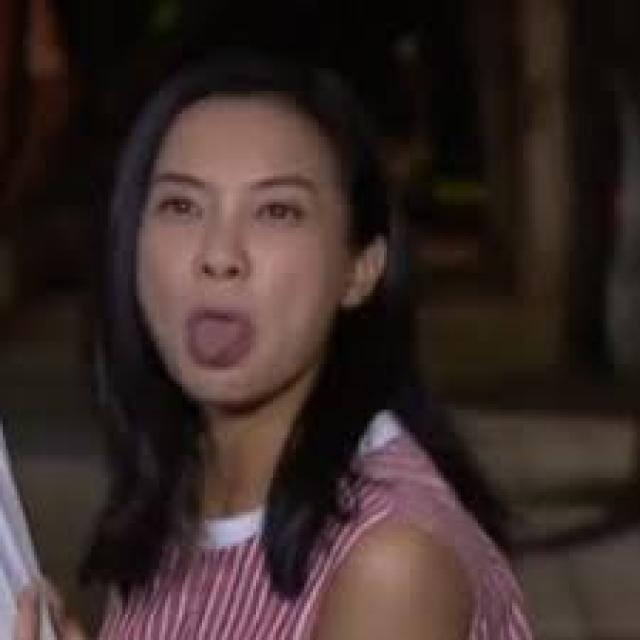tongue: (196, 318, 246, 357)
